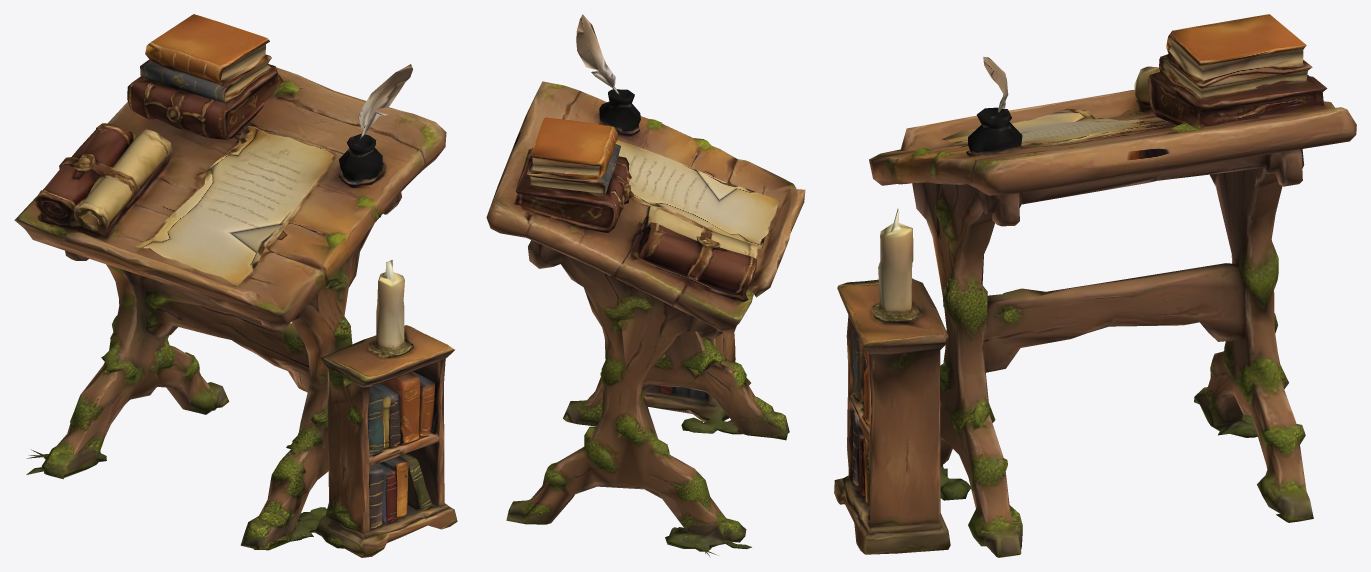
File: town_station_scribe_desk.glb
3 renders of one model, left to right at view 1: azimuth 30°, elevation 25°; view 2: azimuth 150°, elevation 25°; view 3: azimuth 270°, elevation 25°, orthographic. The views are drawn at different scales.
Visible parts, largest first — view 1: tripo_node_fa5f13ed-ae5d-499c-a81e-abe168063eb3; view 2: tripo_node_fa5f13ed-ae5d-499c-a81e-abe168063eb3; view 3: tripo_node_fa5f13ed-ae5d-499c-a81e-abe168063eb3.
Boxes of the visible parts, x1,y1,x2,y2 form: tripo_node_fa5f13ed-ae5d-499c-a81e-abe168063eb3: (14,14,457,557); tripo_node_fa5f13ed-ae5d-499c-a81e-abe168063eb3: (486,14,805,556); tripo_node_fa5f13ed-ae5d-499c-a81e-abe168063eb3: (834,14,1356,557).
Bounding box in the file's own units: 1.75 × 2.2 × 2.07.
Materials: 1 (1 with a texture image).
